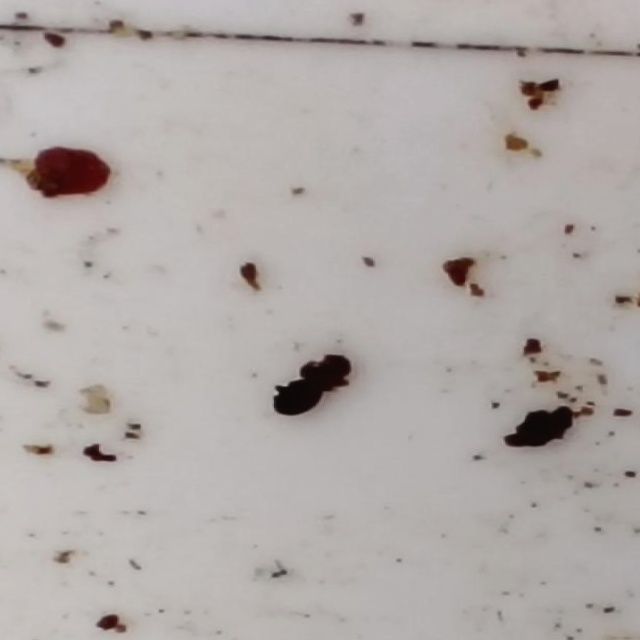varroa: (295, 355, 353, 393), (269, 382, 322, 418)
